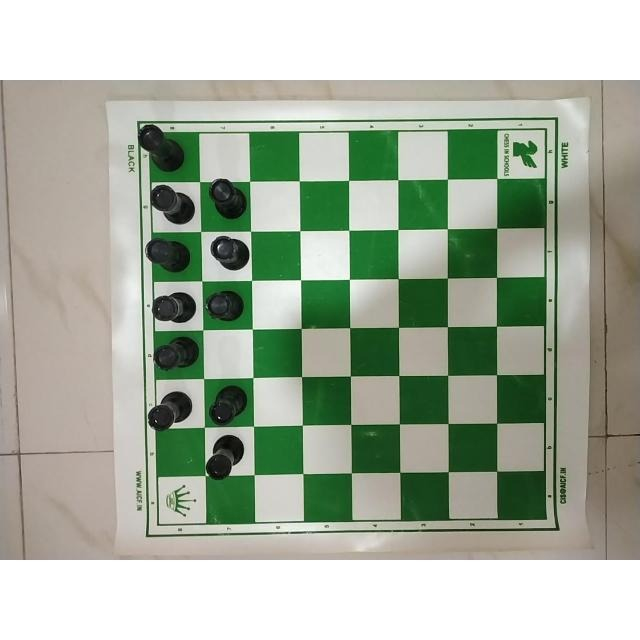black-rook: (136, 122, 187, 174), (149, 388, 197, 432), (204, 432, 246, 482), (143, 235, 193, 274), (148, 184, 195, 225), (207, 176, 249, 220), (208, 383, 250, 427), (206, 233, 251, 273), (152, 335, 200, 371), (149, 291, 197, 325), (204, 288, 248, 320)
